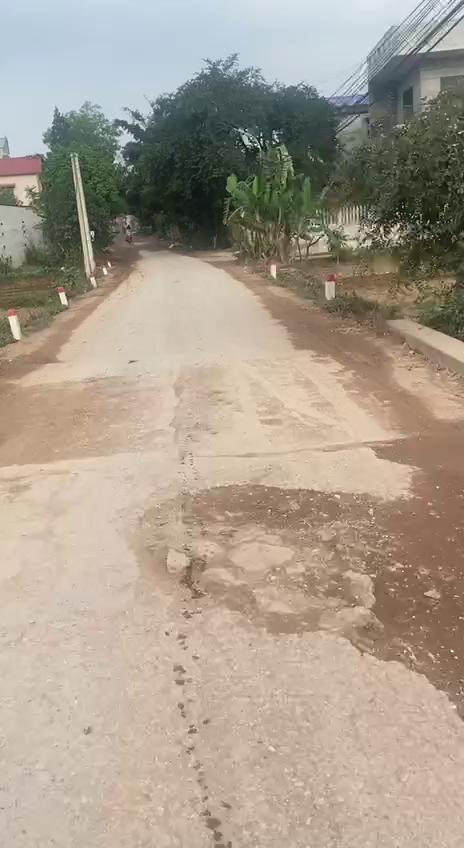pothole: (123, 475, 446, 674)
